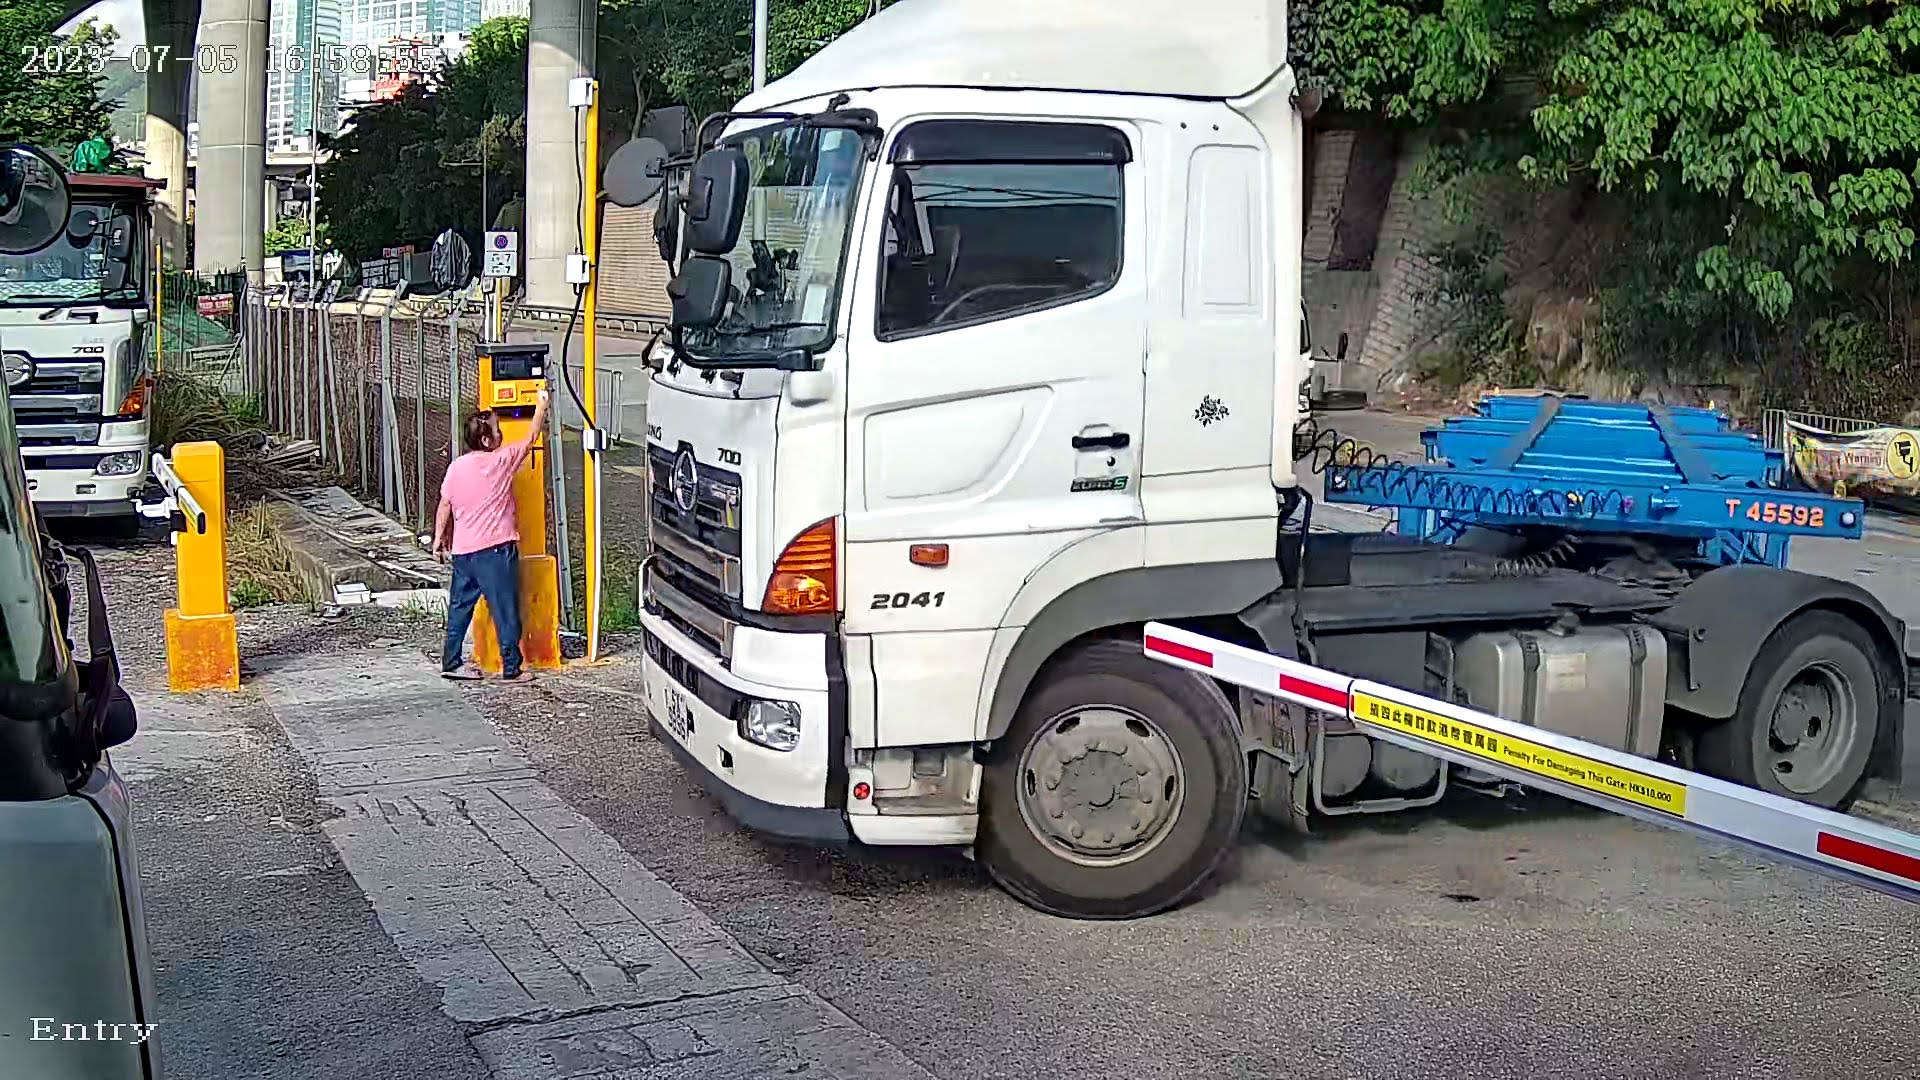tractor: (589, 1, 1917, 902)
